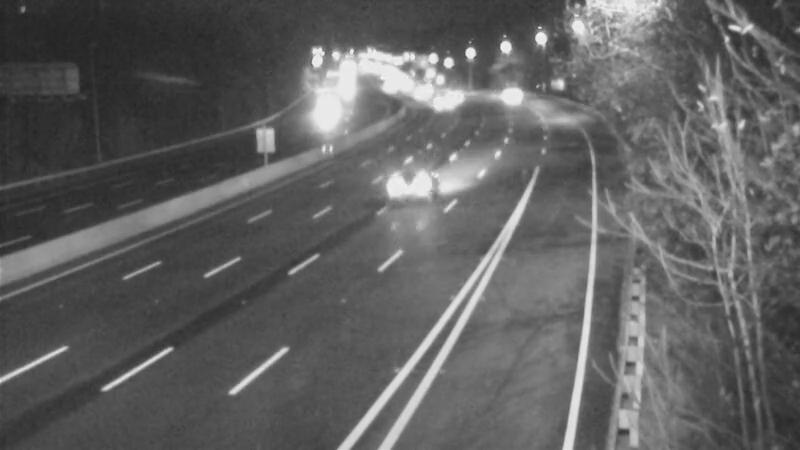vehicle: (366, 141, 446, 221), (488, 69, 538, 119), (410, 75, 460, 125), (299, 89, 349, 139)
